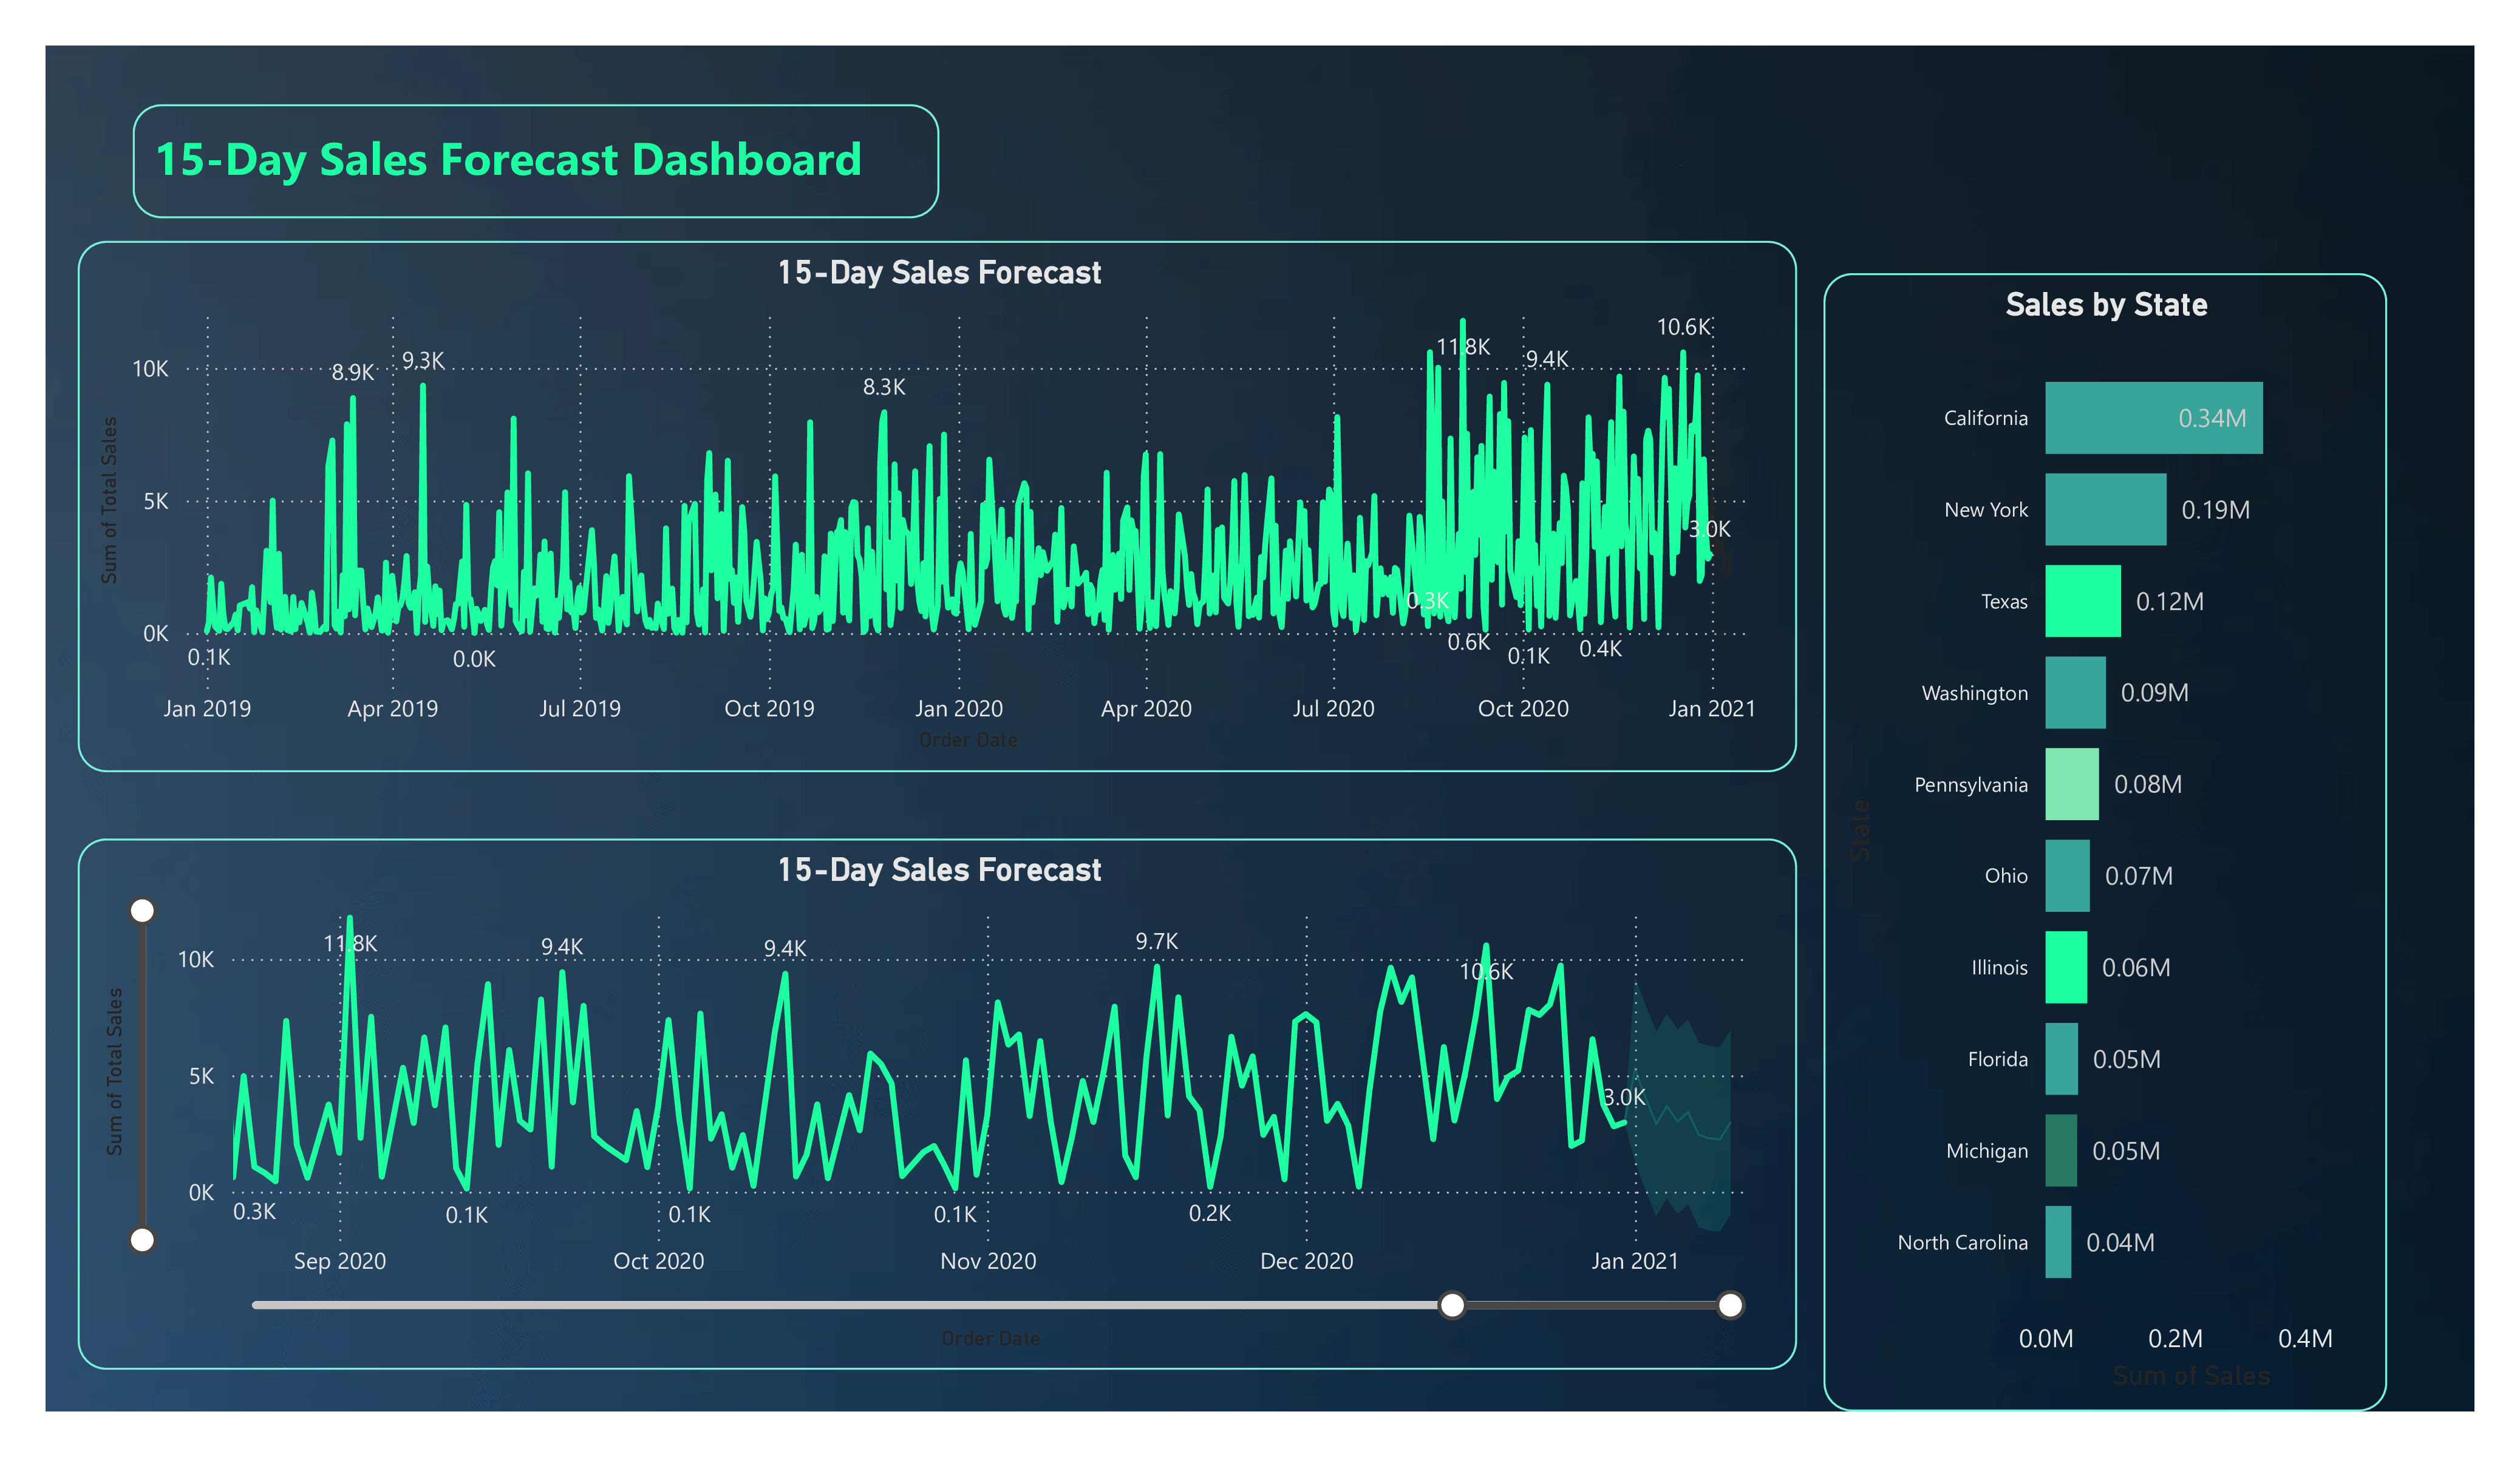

The page's visual inventory and layout, read from the dashboard file:
{"tool":"powerbi","page":{"name":"Page 2","canvas":[1280,720],"ordinal":1},"visuals":[{"type":"lineChart","title":"15-Day Sales Forecast","fields":{"Y":["Sum(Salesforecast.Total Sales)"],"Category":["Salesforecast.Order Date"]},"box":[16.9,103.1,906.2,280],"z":0},{"type":"lineChart","title":"15-Day Sales Forecast","fields":{"Y":["Sum(Salesforecast.Total Sales)"],"Category":["Salesforecast.Order Date"]},"box":[16.9,418.5,906.2,280],"z":1000},{"type":"barChart","title":"Sales by State","fields":{"Y":["Sum(SuperStore_Sales_Dataset.Sales)"],"Category":["SuperStore_Sales_Dataset.State"]},"box":[943.1,83.1,296.9,600],"z":1001}]}

Visuals, with their boxes on the page's 1280x720 design canvas (x1, y1, x2, y2). These are canvas units, not pixel positions in the 2520x1457 screenshot, which may show the page scaled, cropped or inside an application window:
"15-Day Sales Forecast" lineChart: 17, 103, 923, 383
"15-Day Sales Forecast" lineChart: 17, 418, 923, 698
"Sales by State" barChart: 943, 83, 1240, 683
